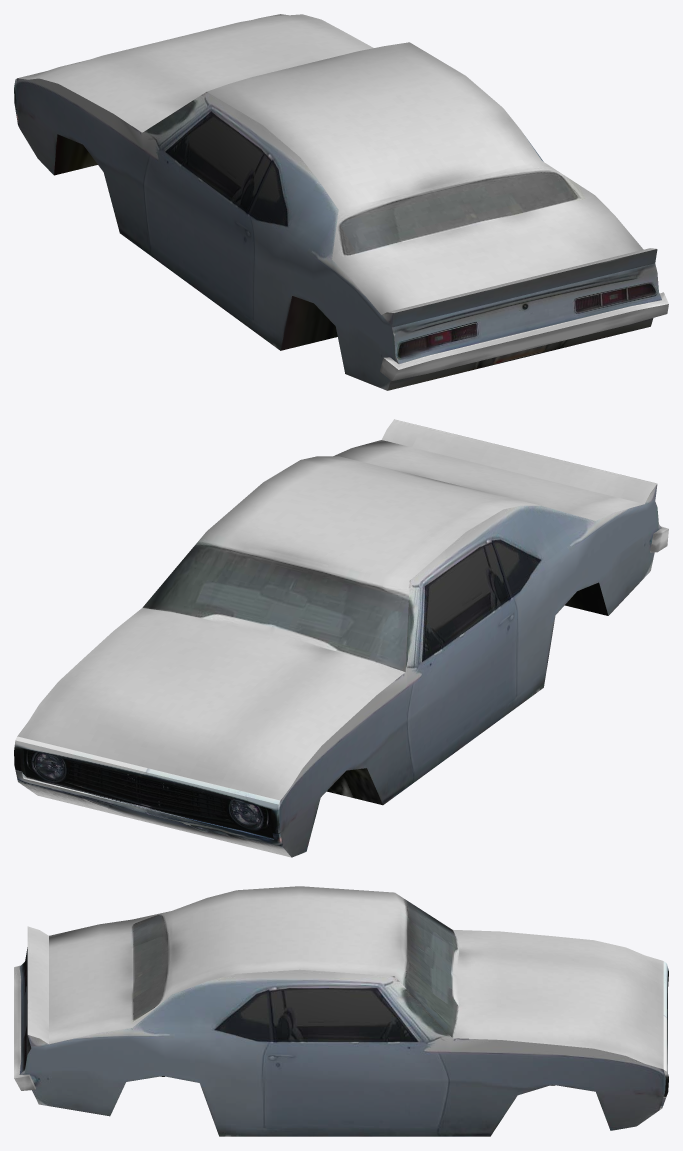
File: car.DAE
The picture shows the model from 3 angles, top to bottom: view 1: azimuth 30°, elevation 25°; view 2: azimuth 150°, elevation 25°; view 3: azimuth 270°, elevation 25°; orthographic projection. The views are drawn at different scales.
Visible parts, largest first — view 1: Camaro; view 2: Camaro; view 3: Camaro.
Part boxes in pixels (box(x1,y1,x2,y2)): Camaro: box(14, 14, 668, 390); Camaro: box(14, 419, 668, 857); Camaro: box(14, 886, 668, 1136).
Size of the model in its own units: 61.26 by 148 by 38.66.
1 material, 1 textured.
